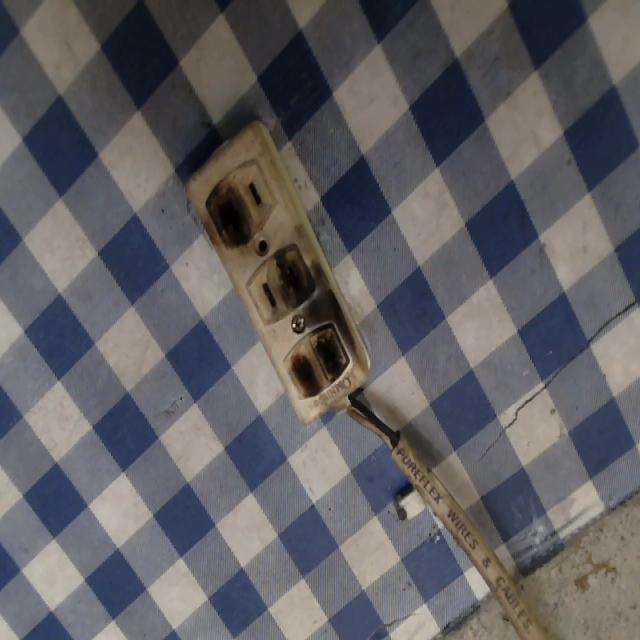-: (279, 321, 349, 408), (204, 176, 250, 257), (268, 240, 315, 308)
